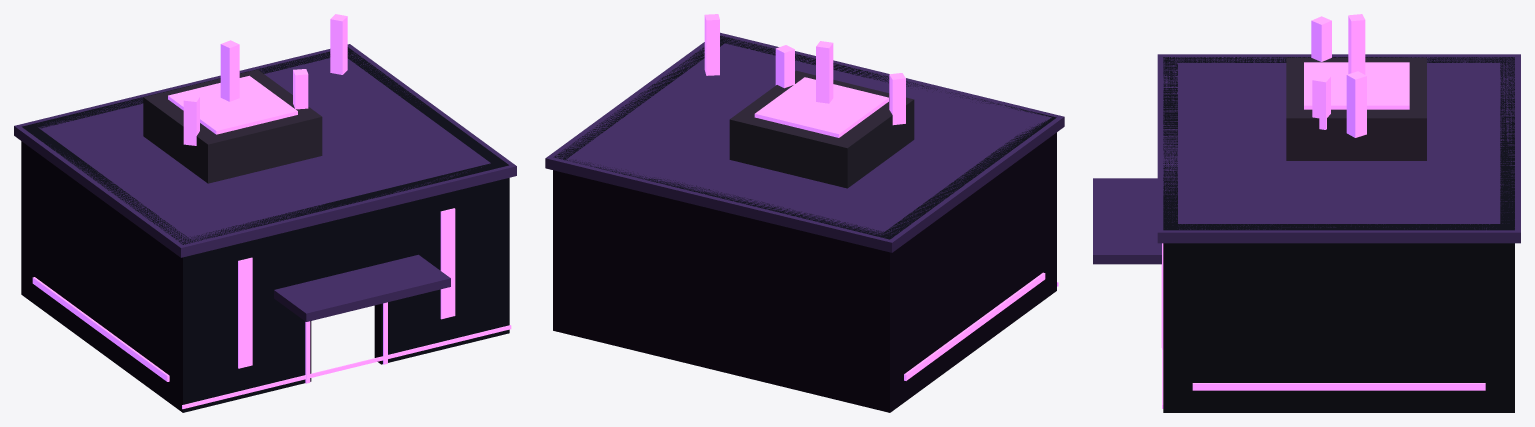
The model's file is shaddai_dist_void_b1_v01.glb.
The picture shows the model from 3 angles, left to right: view 1: azimuth 30°, elevation 25°; view 2: azimuth 150°, elevation 25°; view 3: azimuth 270°, elevation 25°; orthographic projection. The views are drawn at different scales.
Visible parts, largest first — view 1: shaddai_dist_void_b1; view 2: shaddai_dist_void_b1; view 3: shaddai_dist_void_b1.
Part boxes in pixels (x1=…): shaddai_dist_void_b1: x1=14, y1=14, x2=516, y2=412; shaddai_dist_void_b1: x1=545, y1=14, x2=1064, y2=412; shaddai_dist_void_b1: x1=1093, y1=14, x2=1520, y2=412.
Bounding box in the file's own units: 14.4 × 11.08 × 14.6.
